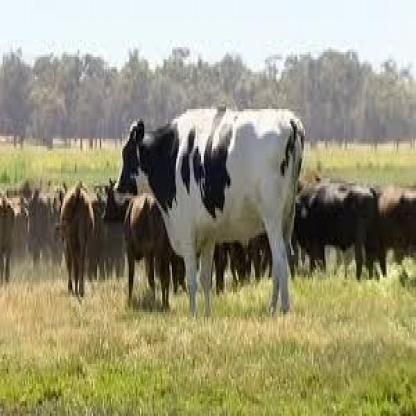cow: (114, 105, 306, 321), (296, 181, 378, 280), (125, 192, 172, 311), (60, 183, 95, 300), (380, 186, 416, 282), (0, 193, 15, 284), (14, 193, 29, 260)
